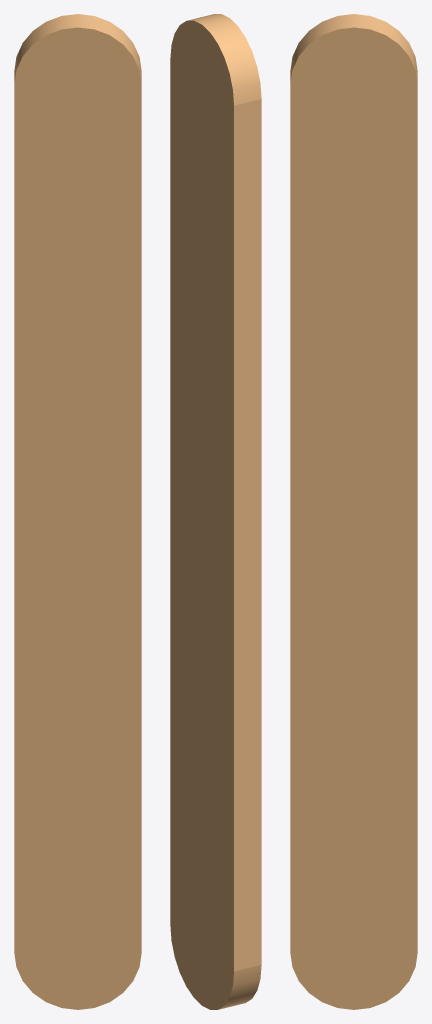
Rendered from popsicleStick.obj.
3 views of the same model, side by side, from view 1: azimuth 90°, elevation 25°; view 2: azimuth 210°, elevation 25°; view 3: azimuth 270°, elevation 25° (orthographic).
Parts seen in each view (by area): view 1: popsicleStick; view 2: popsicleStick; view 3: popsicleStick.
Part boxes in pixels (box(x1,y1,x2,y2)): popsicleStick: box(14, 14, 141, 1009); popsicleStick: box(170, 14, 261, 1009); popsicleStick: box(290, 14, 417, 1009).
Size of the model in its own units: 0.01 by 0.34 by 0.04.
